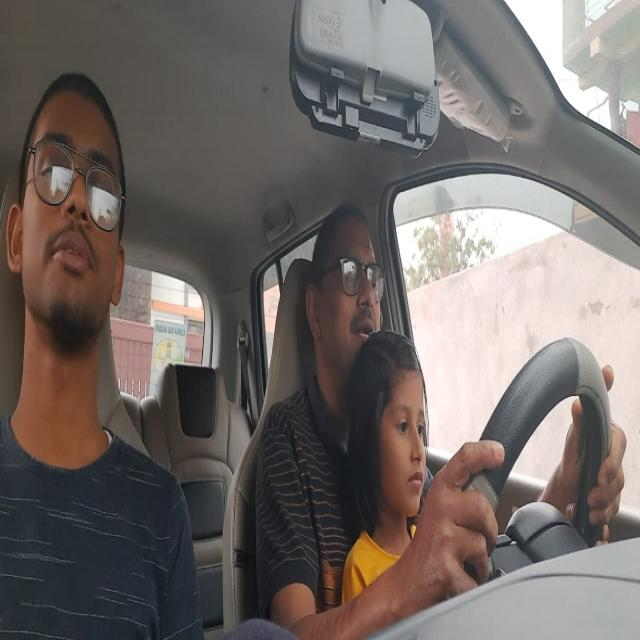child: (366, 327, 435, 521)
person: (6, 42, 129, 392), (304, 196, 396, 365)
